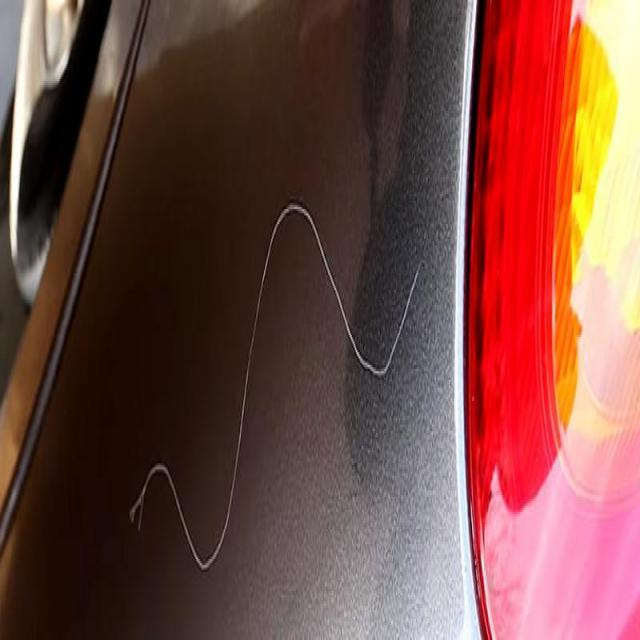scratch: (124, 174, 428, 592)
